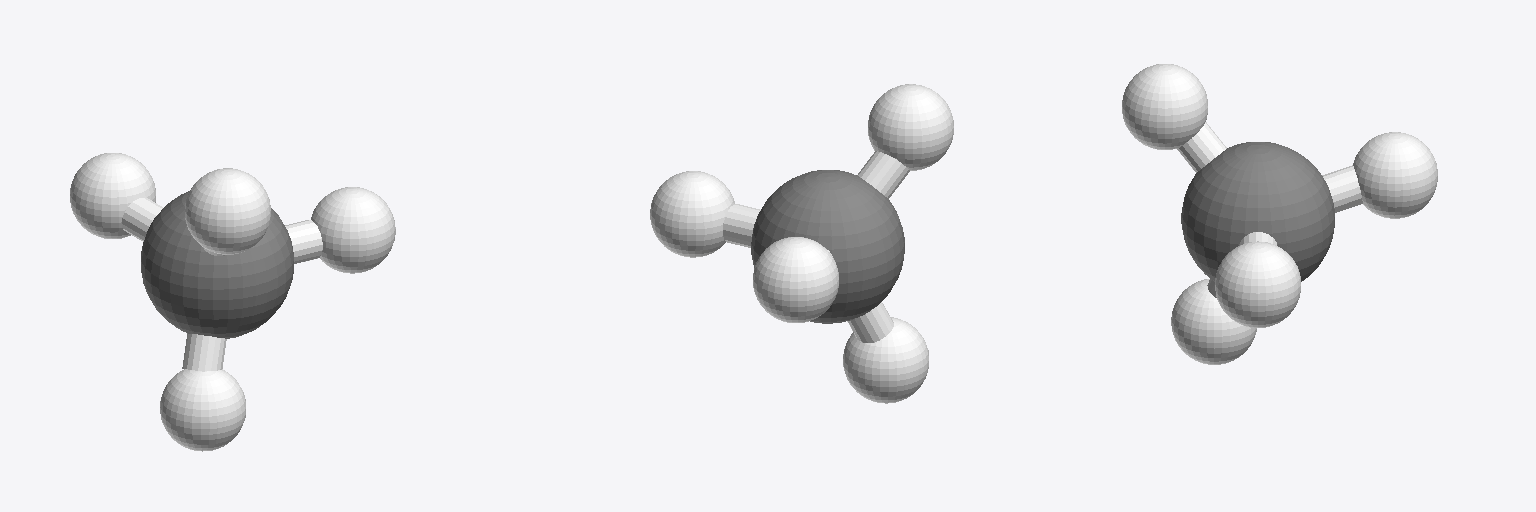
Rendered from methane.obj.
3 renders of one model, left to right at view 1: azimuth 30°, elevation 25°; view 2: azimuth 150°, elevation 25°; view 3: azimuth 270°, elevation 25°, orthographic.
Visible parts, largest first — view 1: Hydrogen_ball, Carbon_ball, Hydrogen_sticks_cylinder; view 2: Hydrogen_ball, Carbon_ball, Hydrogen_sticks_cylinder; view 3: Hydrogen_ball, Carbon_ball, Hydrogen_sticks_cylinder.
Part boxes in pixels (x1,y1,x2,y2): Hydrogen_ball: (70, 153, 395, 451); Carbon_ball: (141, 191, 293, 338); Hydrogen_sticks_cylinder: (122, 198, 322, 371); Hydrogen_ball: (650, 84, 953, 403); Carbon_ball: (751, 170, 904, 323); Hydrogen_sticks_cylinder: (723, 151, 909, 342); Hydrogen_ball: (1122, 64, 1437, 364); Carbon_ball: (1181, 142, 1334, 281); Hydrogen_sticks_cylinder: (1177, 122, 1362, 297).
Bounding box in the file's own units: 2.84 × 3.23 × 3.16.